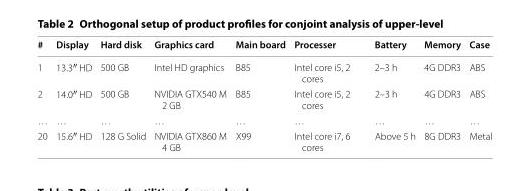table: (36, 37, 491, 152)
table column: (149, 37, 230, 152), (289, 37, 361, 152), (230, 37, 289, 152), (361, 37, 419, 152), (95, 37, 149, 152), (419, 37, 464, 152), (51, 37, 95, 152), (464, 37, 491, 152), (36, 37, 51, 152)
table column header: (36, 37, 491, 55)
table row: (36, 55, 491, 85), (36, 85, 491, 112), (36, 127, 491, 152), (36, 37, 491, 55), (36, 112, 491, 127)
